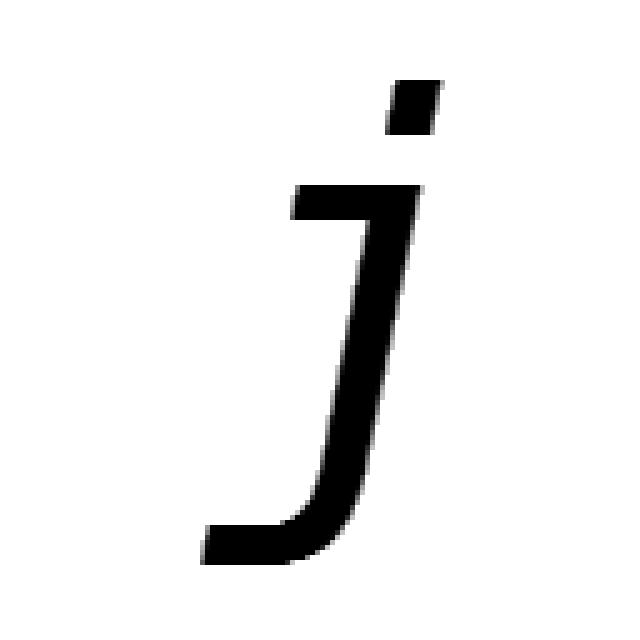J: (190, 70, 450, 570)
